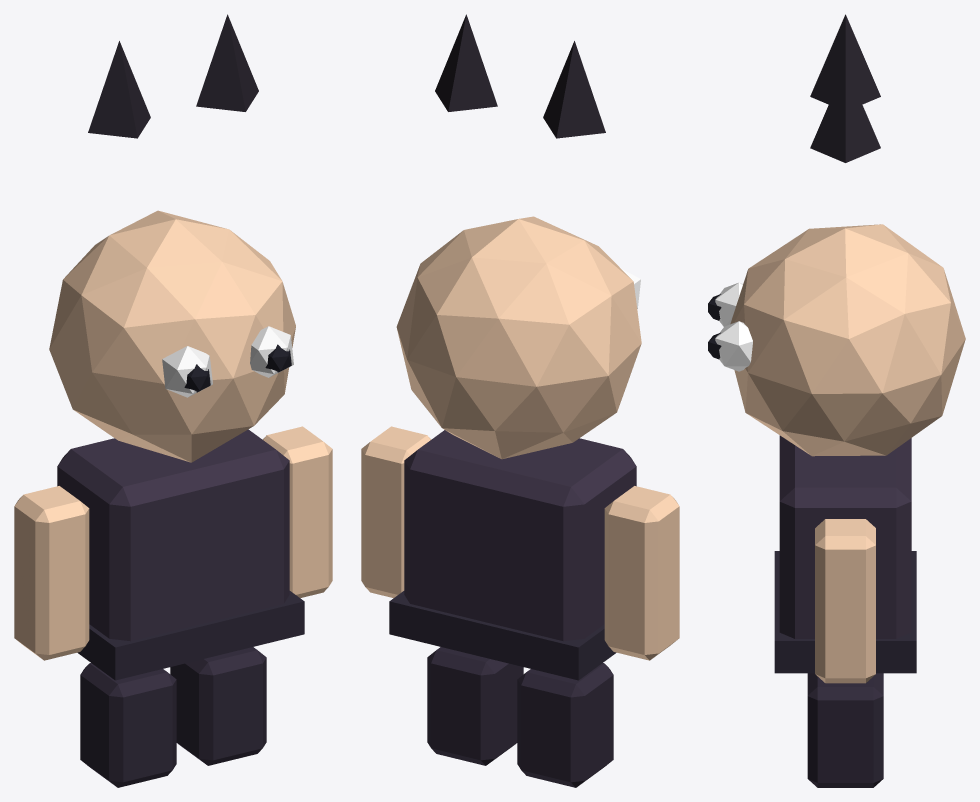
The model's file is SilentClaw.fbx.
The picture shows the model from 3 angles, left to right: view 1: azimuth 30°, elevation 25°; view 2: azimuth 150°, elevation 25°; view 3: azimuth 270°, elevation 25°; orthographic projection. The views are drawn at different scales.
Visible parts, largest first — view 1: SilentClaw; view 2: SilentClaw; view 3: SilentClaw.
Part boxes in pixels (x1=…): SilentClaw: x1=14, y1=14, x2=332, y2=787; SilentClaw: x1=361, y1=14, x2=679, y2=787; SilentClaw: x1=708, y1=14, x2=965, y2=787.
Bounding box in the file's own units: 7.26 × 17.11 × 5.59.
Materials: 1 (1 with a texture image).
